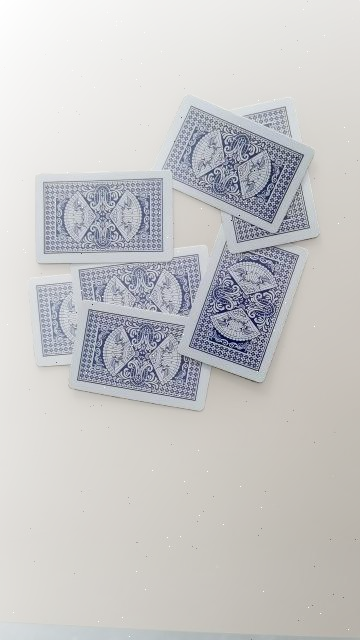card: (152, 95, 314, 232), (179, 228, 308, 382), (69, 300, 211, 410), (36, 171, 172, 262), (72, 245, 207, 316), (221, 171, 320, 252), (232, 98, 302, 141), (36, 282, 76, 356)
